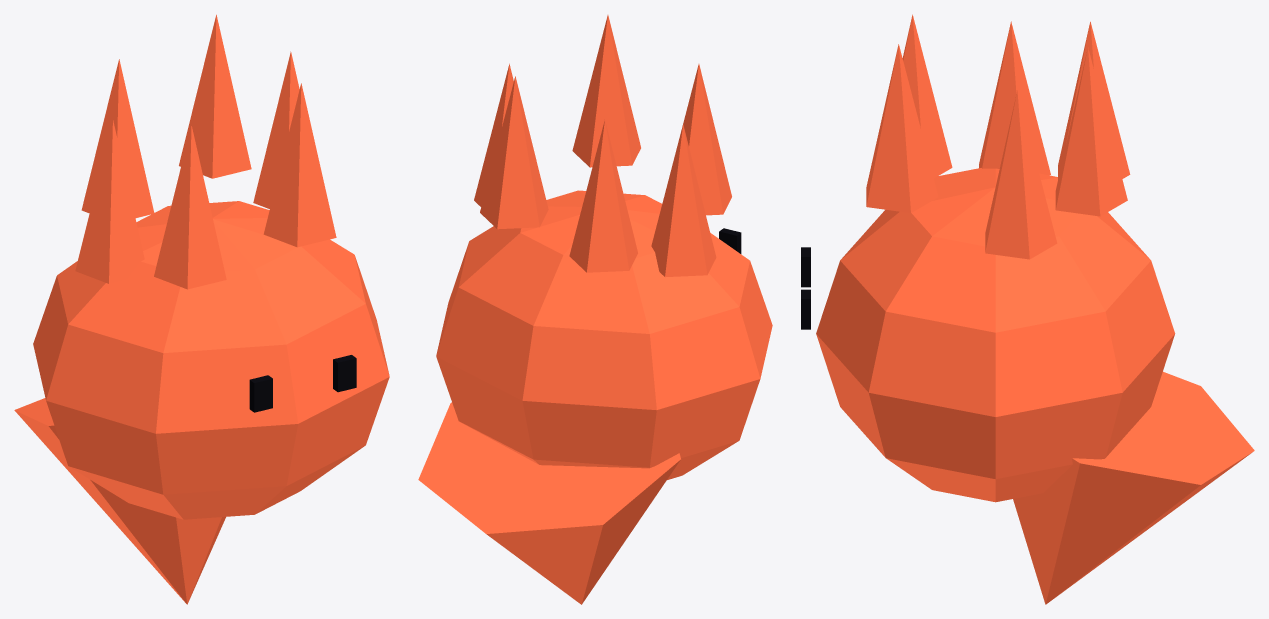
The model's file is soul_old.glb.
3 views of the same model, side by side, from view 1: azimuth 30°, elevation 25°; view 2: azimuth 150°, elevation 25°; view 3: azimuth 270°, elevation 25° (orthographic). The views are drawn at different scales.
Visible parts, largest first — view 1: soul_old; view 2: soul_old; view 3: soul_old.
Boxes of the visible parts, <box> form: soul_old: <box>14,14,389,604</box>; soul_old: <box>418,15,772,604</box>; soul_old: <box>801,14,1254,604</box>.
Size of the model in its own units: 0.792 by 1.29 by 0.9096.
